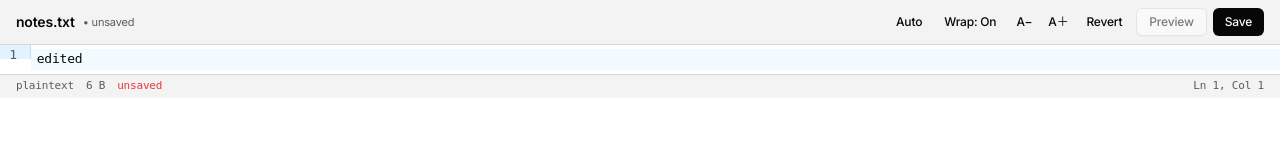
Test case: FileTextEditor › clears the previous failure message while a retry is in flight
The width and height of the screenshot is (1280, 160).
Step 1. Click the button "Save" → (1238, 22), box top-left (1213, 8), bottom-right (1264, 36)
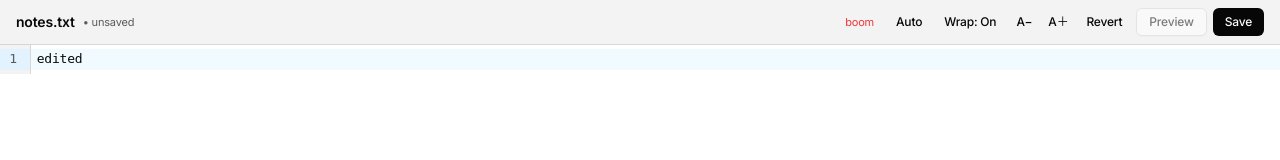
expect the text "boom" is shown: met, box top-left (845, 14), bottom-right (874, 30)
Step 2. Click the button "Save" → (1238, 22), box top-left (1213, 8), bottom-right (1264, 36)
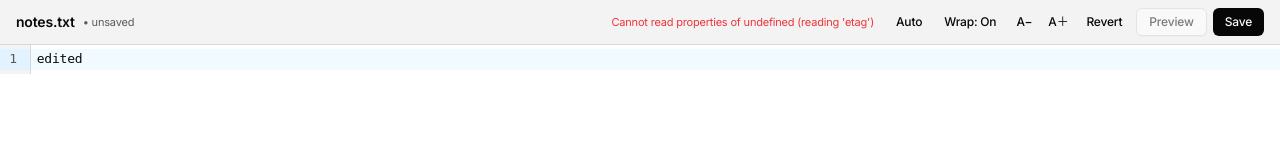
expect the text "boom" is gone: met
